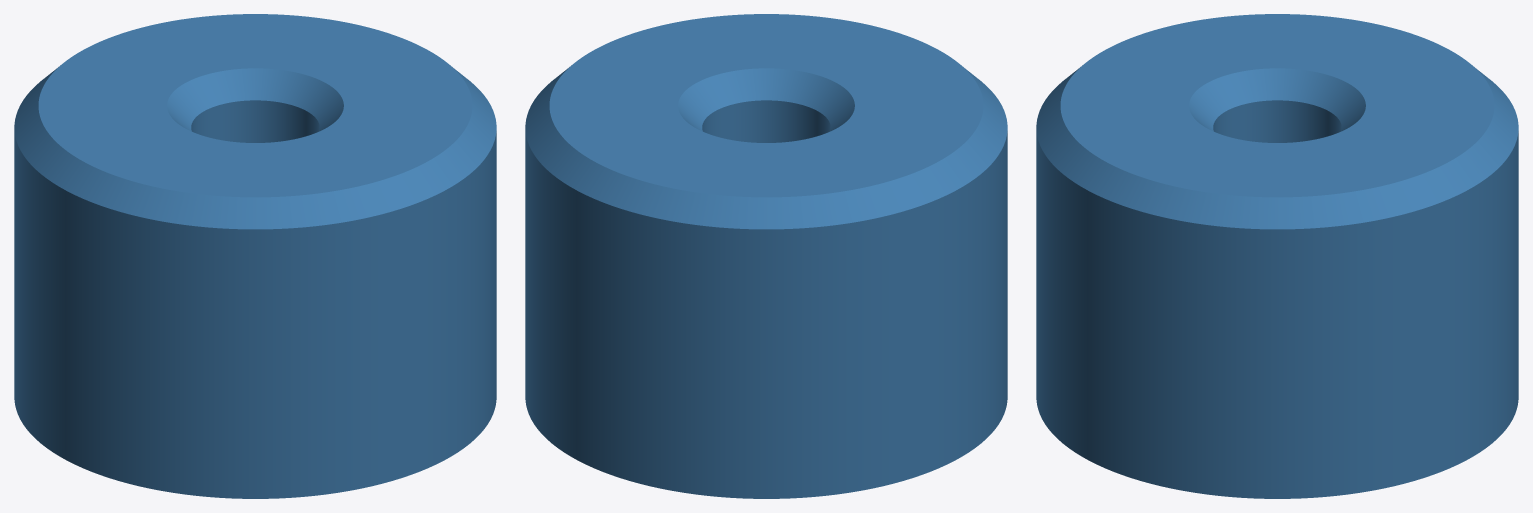
The model's file is parametrik_montaj_Cylinder_roundHole.gltf.
3 views of the same model, side by side, from view 1: azimuth 30°, elevation 25°; view 2: azimuth 150°, elevation 25°; view 3: azimuth 270°, elevation 25° (orthographic).
Parts seen in each view (by area): view 1: base_cylinder_part; view 2: base_cylinder_part; view 3: base_cylinder_part.
Boxes of the visible parts, <box> form: base_cylinder_part: <box>14,14,496,498</box>; base_cylinder_part: <box>525,14,1007,498</box>; base_cylinder_part: <box>1036,14,1518,498</box>.
Bounding box in the file's own units: 30 × 20 × 29.99.
